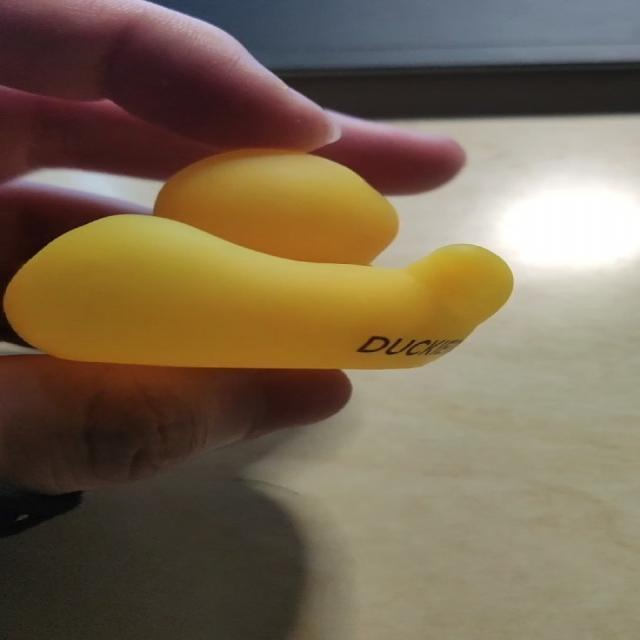rubber-duck: (3, 150, 511, 367)
